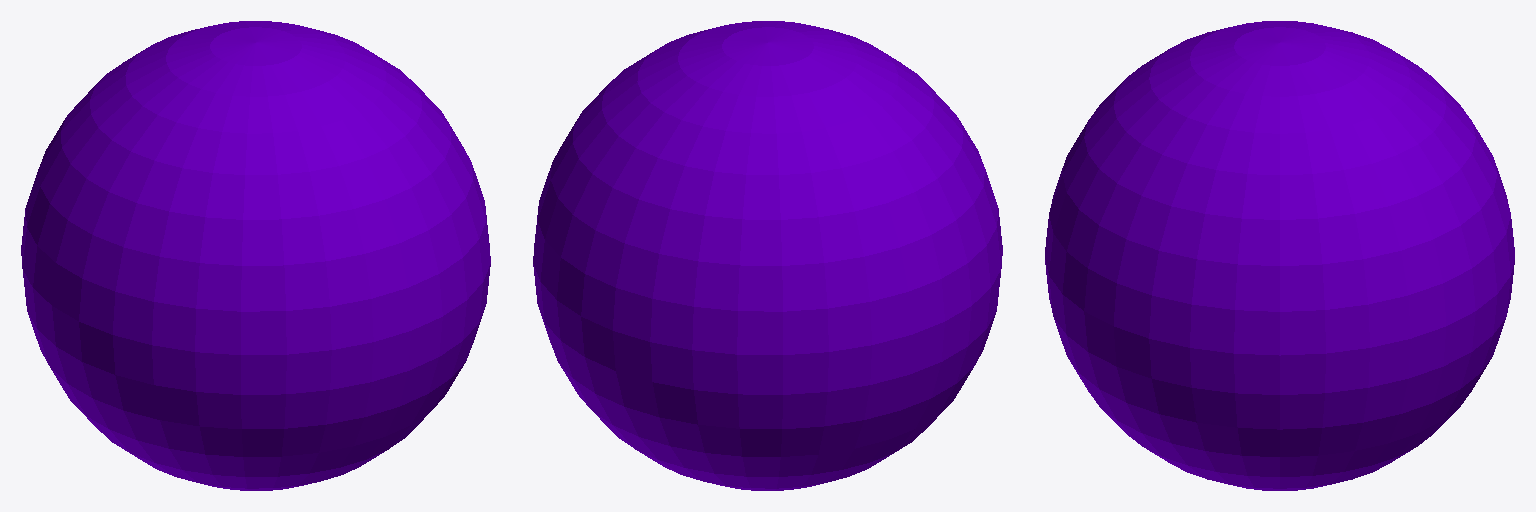
File: worldSphere.obj
3 renders of one model, left to right at view 1: azimuth 30°, elevation 25°; view 2: azimuth 150°, elevation 25°; view 3: azimuth 270°, elevation 25°, orthographic.
Visible parts, largest first — view 1: worldSphere; view 2: worldSphere; view 3: worldSphere.
Boxes of the visible parts, x1=… form: worldSphere: x1=21, y1=21, x2=490, y2=490; worldSphere: x1=533, y1=21, x2=1002, y2=490; worldSphere: x1=1045, y1=21, x2=1514, y2=490.
Bounding box in the file's own units: 242 × 242 × 242.